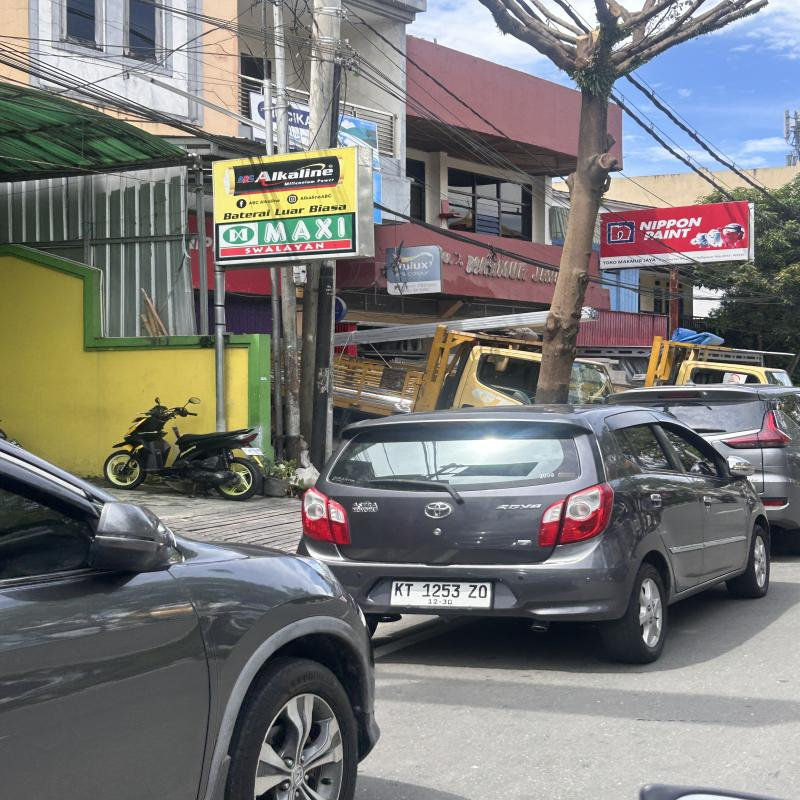license plate on a car: (389, 582, 492, 606)
